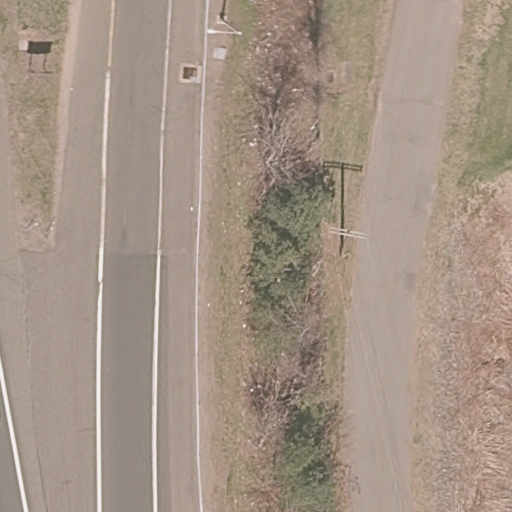DT: (330, 223, 370, 242)
